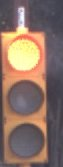Red: (1, 19, 56, 162)
